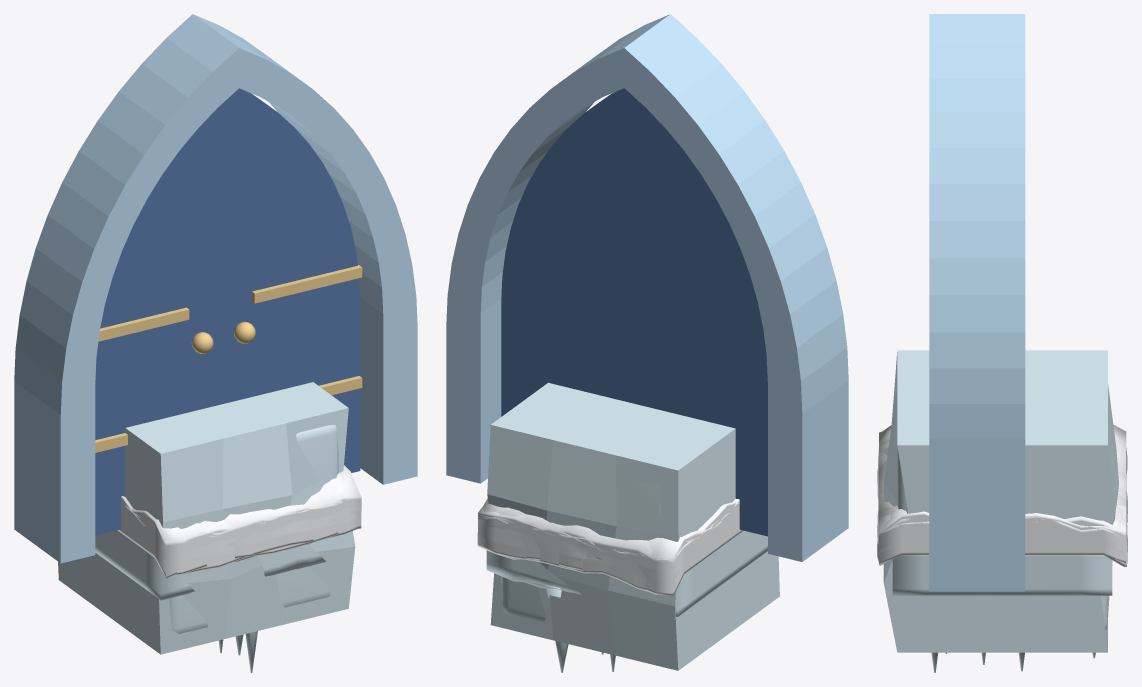
Rendered from props.glb.
3 renders of one model, left to right at view 1: azimuth 30°, elevation 25°; view 2: azimuth 150°, elevation 25°; view 3: azimuth 270°, elevation 25°, orthographic. The views are drawn at different scales.
Visible parts, largest first — view 1: doorFrame, iceWall, doorLeafR, doorLeafL, cap0, iceBlock, cap2, cap1, ledge0, doorLeafRBand.001, ledge2, doorLeafLBand.001 (+1 smaller); view 2: doorFrame, iceWall, doorLeafR, doorLeafL, cap0, ledge0, cap2, cap1, iceBlock, ledge1; view 3: doorFrame, iceWall, ledge0, cap0, cap1, cap2, iceBlock.
Boxes of the visible parts, left/top/right/bottom form: doorFrame: left=14, top=14, right=417, bottom=563; iceWall: left=58, top=382, right=355, bottom=654; doorLeafR: left=219, top=88, right=360, bottom=472; doorLeafL: left=95, top=107, right=219, bottom=535; cap0: left=118, top=487, right=361, bottom=575; iceBlock: left=169, top=424, right=338, bottom=633; cap2: left=121, top=472, right=361, bottom=578; cap1: left=121, top=465, right=361, bottom=576; ledge0: left=95, top=530, right=325, bottom=600; doorLeafRBand.001: left=252, top=265, right=362, bottom=303; ledge2: left=161, top=545, right=325, bottom=672; doorLeafLBand.001: left=98, top=307, right=189, bottom=341; doorFrame: left=446, top=14, right=848, bottom=561; iceWall: left=487, top=382, right=779, bottom=670; doorLeafR: left=501, top=88, right=641, bottom=416; doorLeafL: left=642, top=104, right=767, bottom=536; cap0: left=478, top=503, right=743, bottom=595; ledge0: left=486, top=530, right=767, bottom=654; cap2: left=477, top=501, right=739, bottom=595; cap1: left=478, top=498, right=739, bottom=595; iceBlock: left=501, top=481, right=661, bottom=622; ledge1: left=486, top=550, right=677, bottom=672; doorFrame: left=929, top=14, right=1025, bottom=591; iceWall: left=883, top=350, right=1118, bottom=652; ledge0: left=892, top=555, right=1112, bottom=595; cap0: left=877, top=425, right=1127, bottom=566; cap1: left=877, top=424, right=1127, bottom=564; cap2: left=878, top=431, right=1127, bottom=566; iceBlock: left=897, top=447, right=1107, bottom=629.
Bounding box in the file's own units: 1.86 × 3.14 × 1.1.
